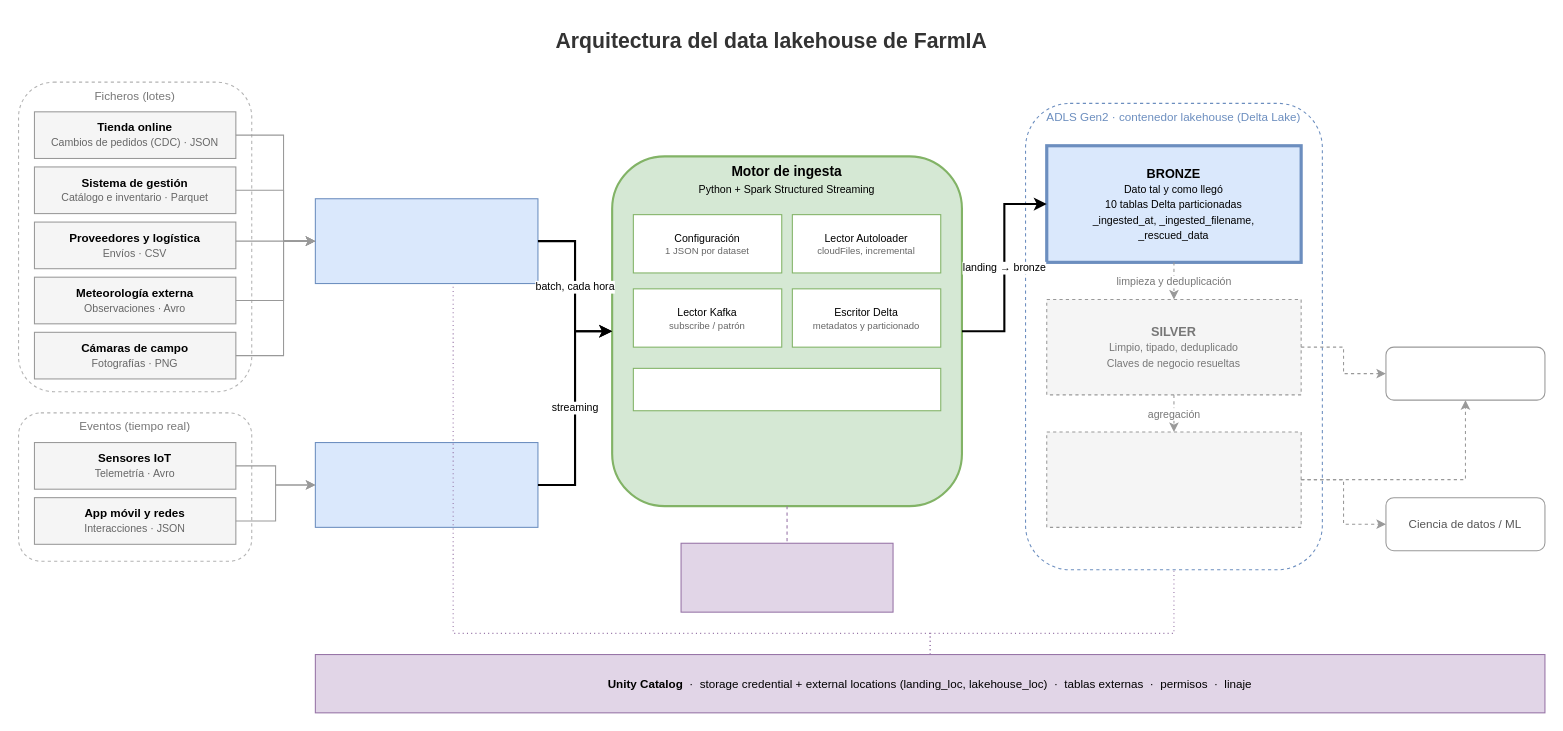
The diagram is 1563 pixels wide and 731 high, and some of its shapes have lost their labels. The centre of each missing label's shape, as x and y in pixels:
"ADLS Gen2 · contenedor landing Zona de aterrizaje Una carpeta por dataset" goes at point (426, 241).
"Confluent Cloud (Kafka) 3 topics Schema Registry (Avro)" goes at point (426, 484).
"Cuadros de mando" goes at point (1465, 373).
"farmia_ops ingestion_audit _checkpoints/" goes at point (786, 577).
"GOLD Agregados de negocio Listos para consumo" goes at point (1173, 479).
"Logging · Manejo de errores por dataset · Auditoría" goes at point (786, 389).
